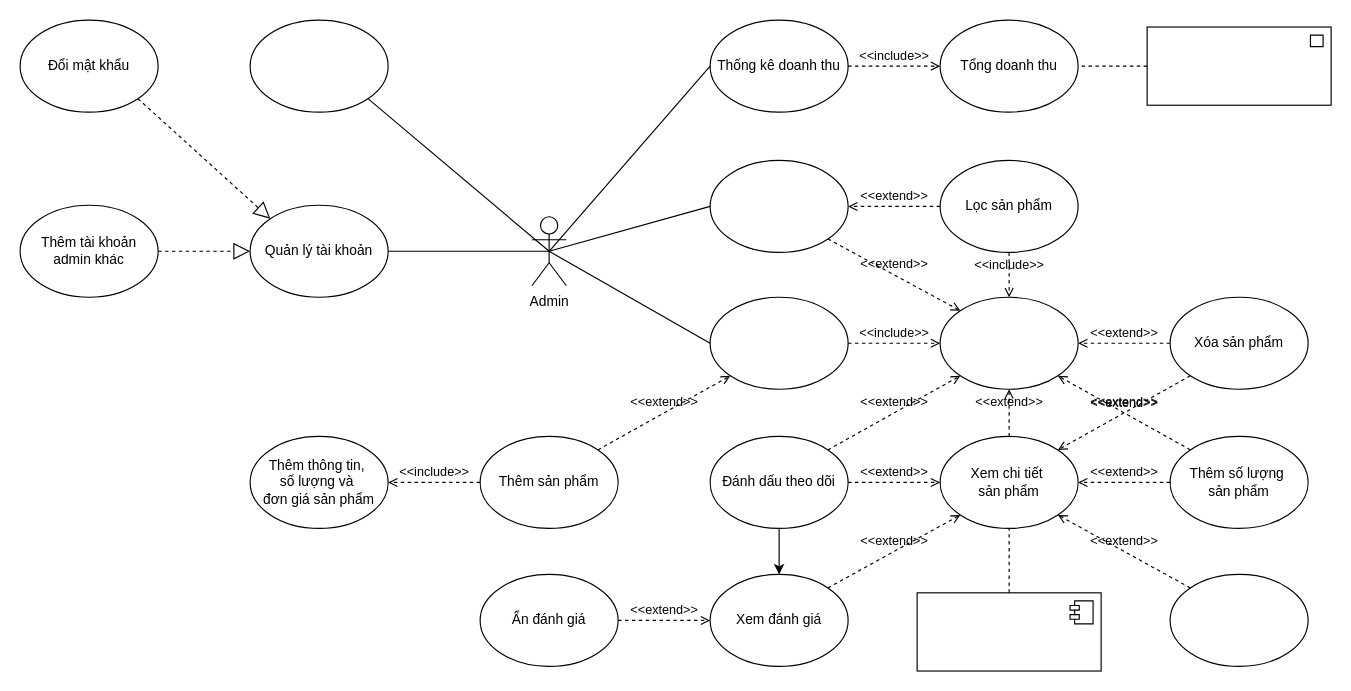
This 1351x691 diagram has some shape labels left out. Here are the shapes that lost their labels. From the top down, the centre of each, then its label:
At [318,65]: "Đăng nhập".
At [1238,65]: "Sản phẩm doanh thu cao Sản phẩm danh số cao".
At [778,205]: "Tìm kiếm sản phẩm".
At [778,342]: "Quản lý kho".
At [1008,342]: "Xem danh sách sản phầm và số lượng tồn kho".
At [1008,631]: "Thông tin sản phẩm Đơn giá Doanh thu tháng Tổng doanh thu".
At [1238,619]: "Thay đổi thông tin sản phẩm".
